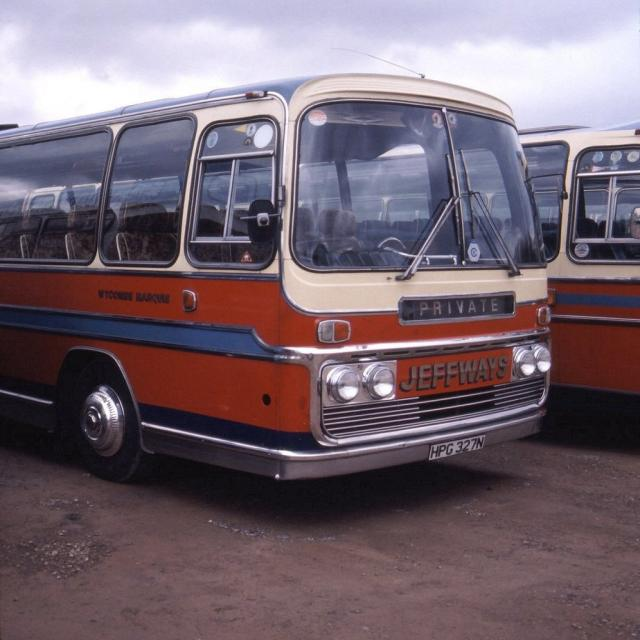Buses: (2, 74, 553, 494)
